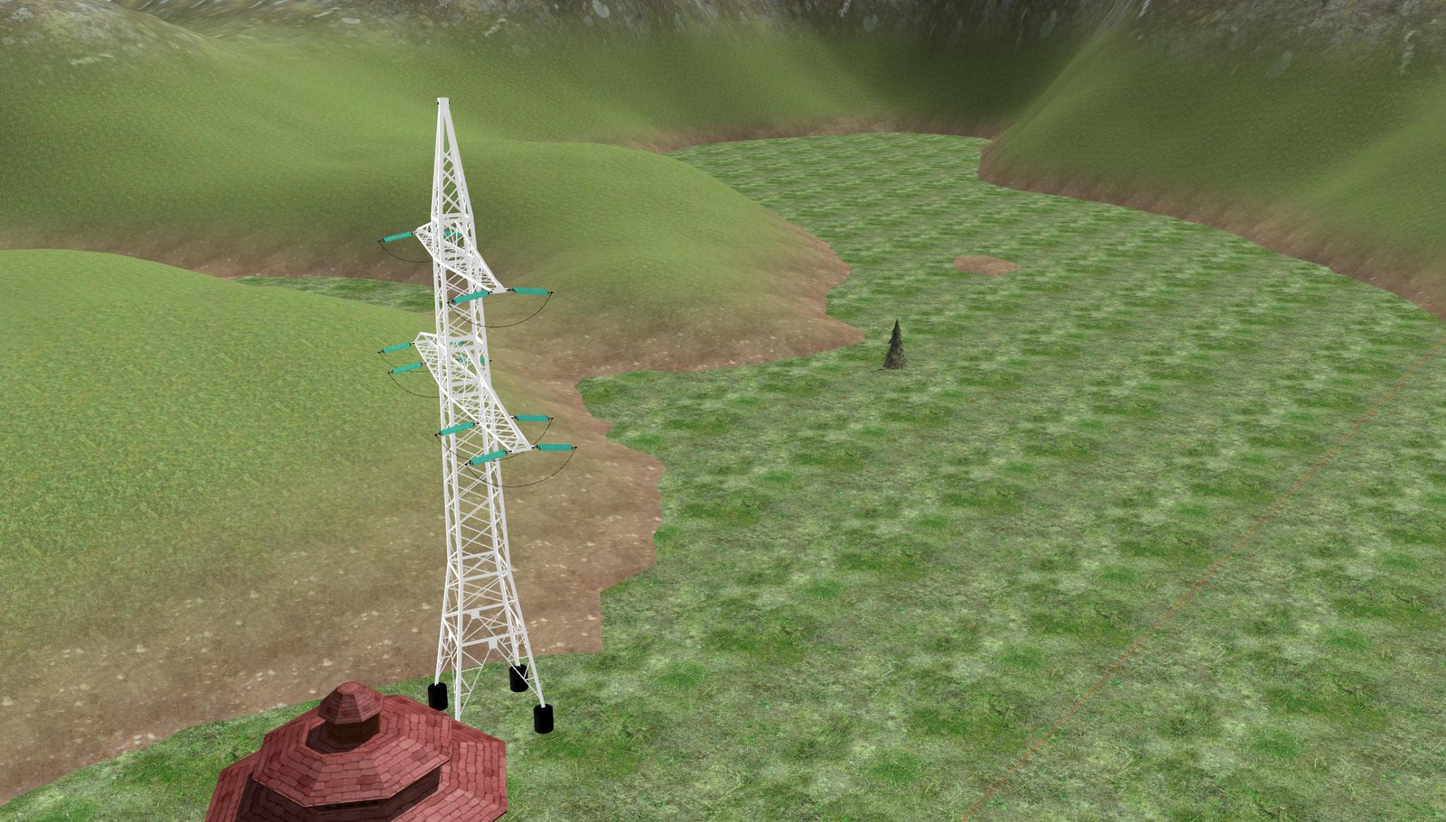tower: (407, 99, 543, 703)
